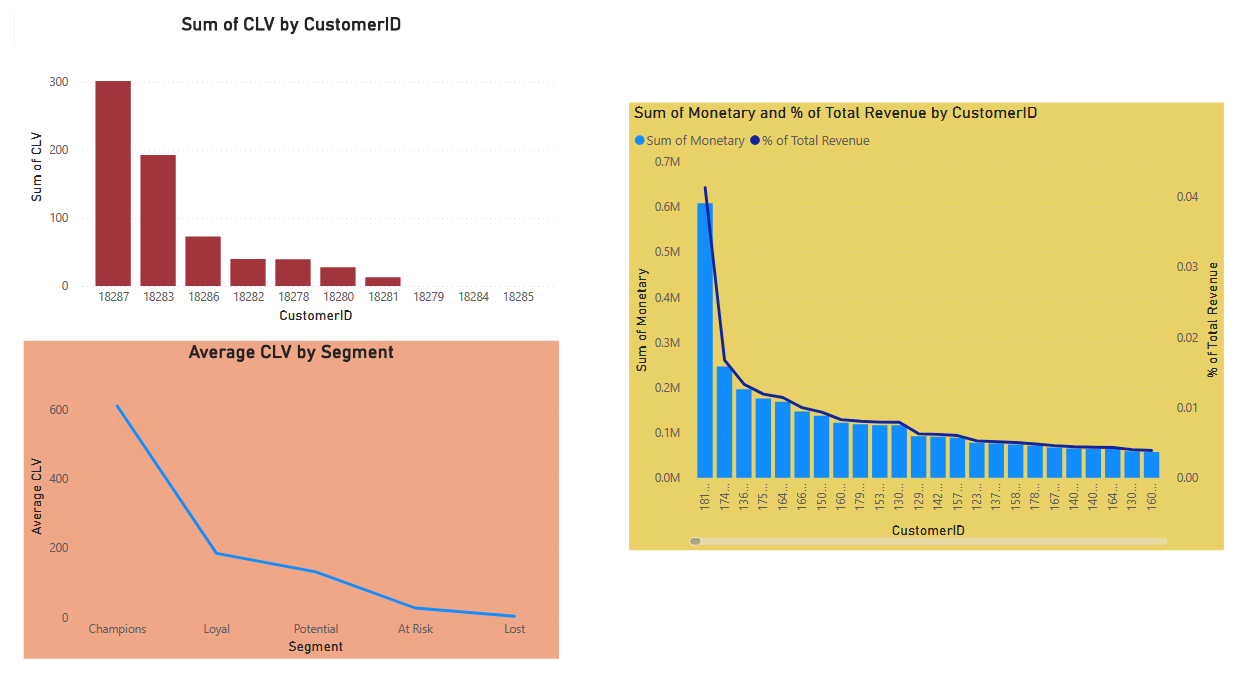

The dashboard page shown, as its layout file describes it:
{"tool":"powerbi","page":{"name":"CLV Deep Dive","canvas":[1280,720],"ordinal":2},"visuals":[{"type":"clusteredColumnChart","fields":{"Category":["rfm_clv_output.CustomerID"],"Y":["Sum(rfm_clv_output.CLV)"]},"box":[10.3,0,557.1,327],"z":0},{"type":"lineChart","fields":{"Category":["rfm_clv_output.Segment"],"Y":["rfm_clv_output.Average CLV"]},"box":[10.3,340.6,557.1,331.5],"z":1000},{"type":"lineStackedColumnComboChart","fields":{"Y":["Sum(rfm_clv_output.Monetary)"],"Category":["rfm_clv_output.CustomerID"],"Y2":["rfm_clv_output.% of Total Revenue"]},"box":[640.3,93.4,618.6,465.9],"z":2000}]}

Visuals, with their boxes on the page's 1280x720 design canvas (x1, y1, x2, y2). These are canvas units, not pixel positions in the 1250x677 screenshot, which may show the page scaled, cropped or inside an application window:
clusteredColumnChart - rfm_clv_output.CustomerID x Sum(rfm_clv_output.CLV): l=10, t=0, r=567, b=327
lineChart - rfm_clv_output.Segment x rfm_clv_output.Average CLV: l=10, t=341, r=567, b=672
lineStackedColumnComboChart - Sum(rfm_clv_output.Monetary) x rfm_clv_output.CustomerID: l=640, t=93, r=1259, b=559
